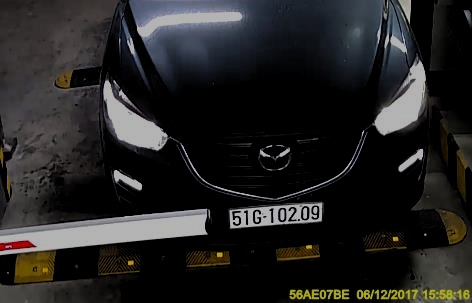plate: (226, 199, 326, 230)
